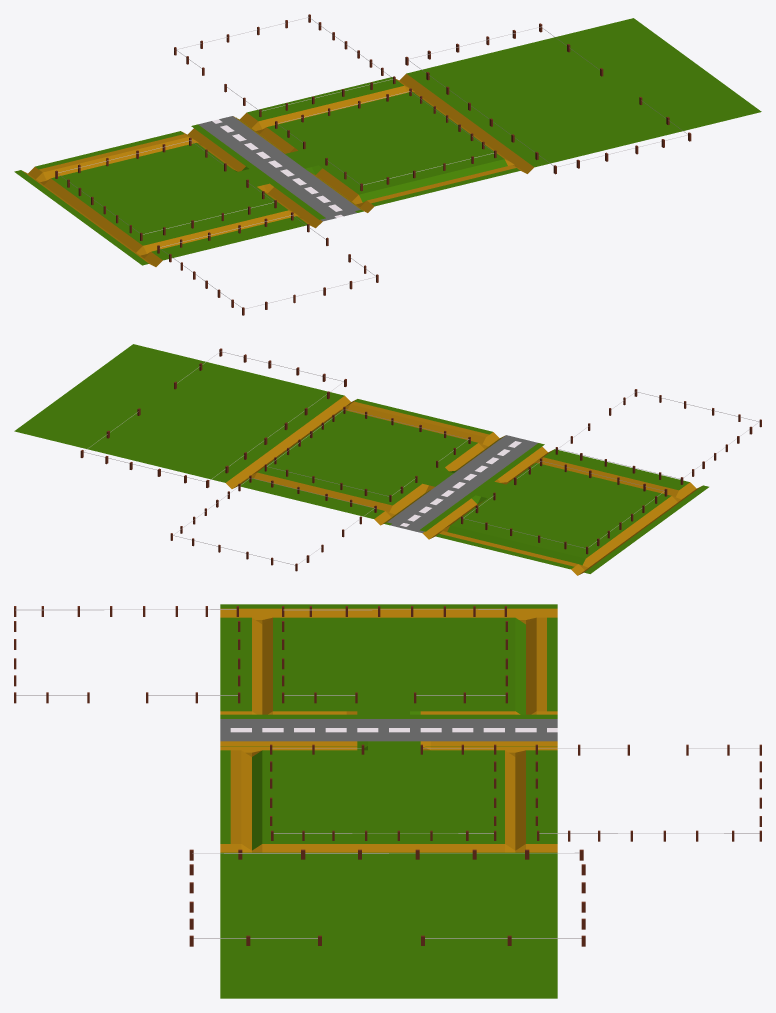
The model's file is M_040. Silage area.fbx.
The picture shows the model from 3 angles, top to bottom: view 1: azimuth 30°, elevation 25°; view 2: azimuth 150°, elevation 25°; view 3: azimuth 270°, elevation 25°; orthographic projection. The views are drawn at different scales.
Parts seen in each view (by area): view 1: Plane, Play area, Play area.001, Fence.003, Fence.002, Fence.004, Fence.001, Fence; view 2: Plane, Play area, Play area.001, Fence.003, Fence.002, Fence.001, Fence.004, Fence; view 3: Plane, Play area, Play area.001, Fence.003, Fence.002, Fence.001, Fence.004, Fence.
Part boxes in pixels (x1,y1,x2,y2): Plane: [412, 18, 761, 165]; Play area: [191, 72, 540, 219]; Play area.001: [14, 117, 363, 266]; Fence.003: [405, 23, 691, 174]; Fence.002: [157, 212, 378, 315]; Fence.004: [174, 14, 395, 117]; Fence.001: [55, 137, 276, 240]; Fence: [276, 88, 496, 191]; Plane: [14, 344, 337, 481]; Play area: [221, 394, 544, 531]; Play area.001: [384, 437, 708, 575]; Fence.003: [80, 348, 346, 487]; Fence.002: [555, 389, 761, 484]; Fence.001: [461, 458, 667, 554]; Fence.004: [170, 475, 376, 571]; Fence: [264, 406, 470, 496]; Plane: [220, 856, 557, 998]; Play area: [220, 714, 557, 857]; Play area.001: [220, 604, 557, 746]; Fence.003: [189, 849, 585, 946]; Fence.002: [14, 606, 240, 703]; Fence.001: [282, 606, 507, 703]; Fence.004: [535, 744, 761, 841]; Fence: [270, 744, 496, 840].
Bounding box in the file's own units: 27893 × 629 × 22174.
